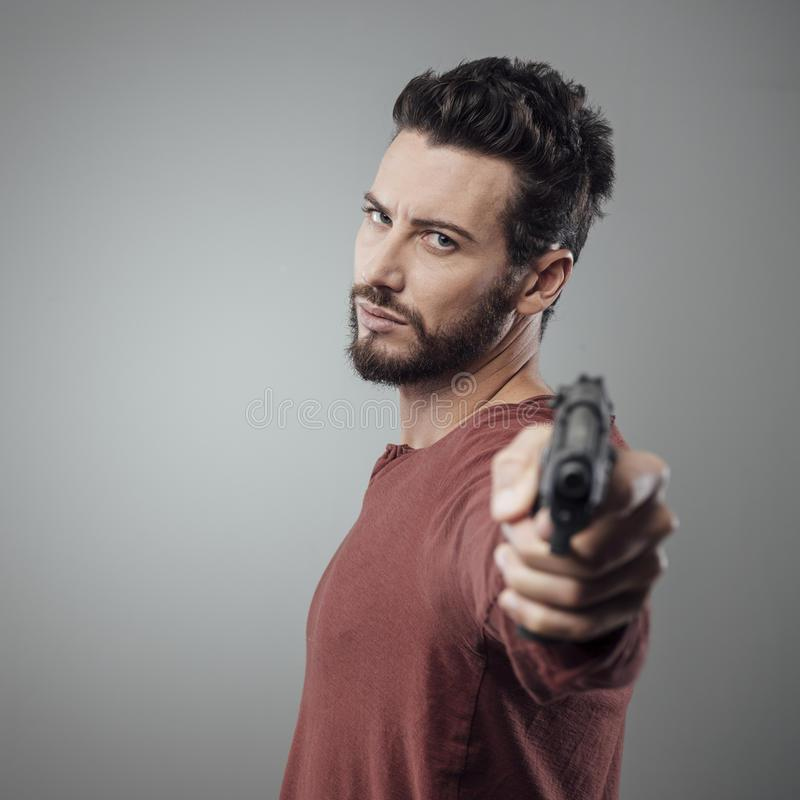criminal: (271, 48, 678, 800)
weapon: (518, 368, 628, 581)
